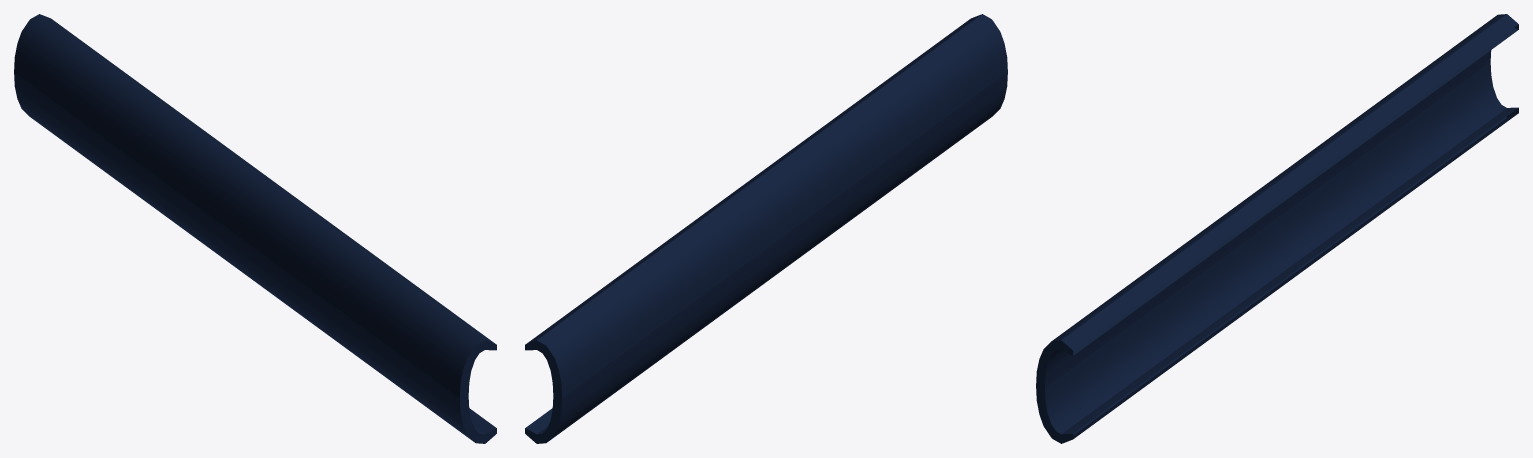
File: SpellbookMock_Spine.fbx
3 renders of one model, left to right at view 1: azimuth 30°, elevation 25°; view 2: azimuth 150°, elevation 25°; view 3: azimuth 330°, elevation 25°, orthographic.
Parts seen in each view (by area): view 1: spellbookmock_spine; view 2: spellbookmock_spine; view 3: spellbookmock_spine.
Part boxes in pixels (x1,y1,x2,y2): spellbookmock_spine: (14,14,496,443); spellbookmock_spine: (525,14,1007,443); spellbookmock_spine: (1036,14,1518,443).
Size of the model in its own units: 1.64 by 4.37 by 34.02.
